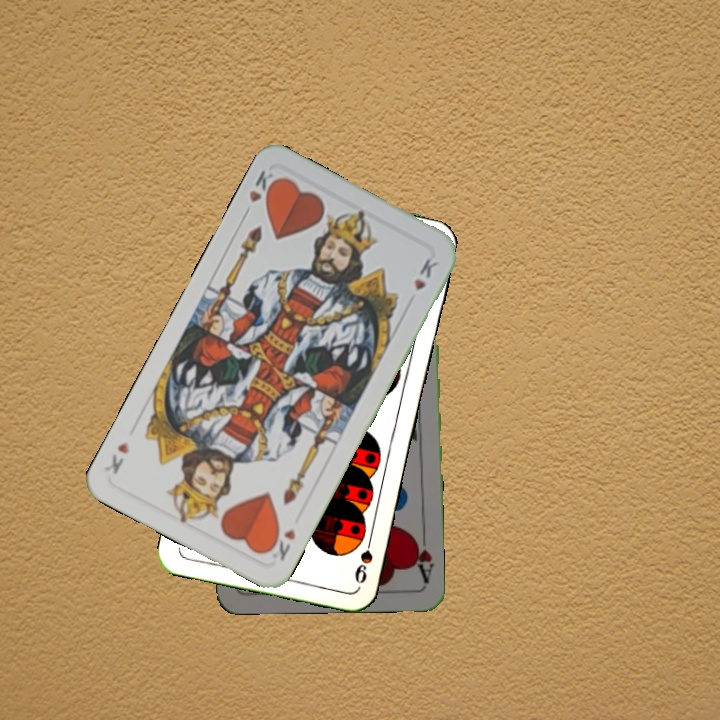HA: (408, 526, 436, 585)
HK: (239, 165, 282, 220), (263, 524, 299, 564)
S9: (350, 529, 376, 587)
